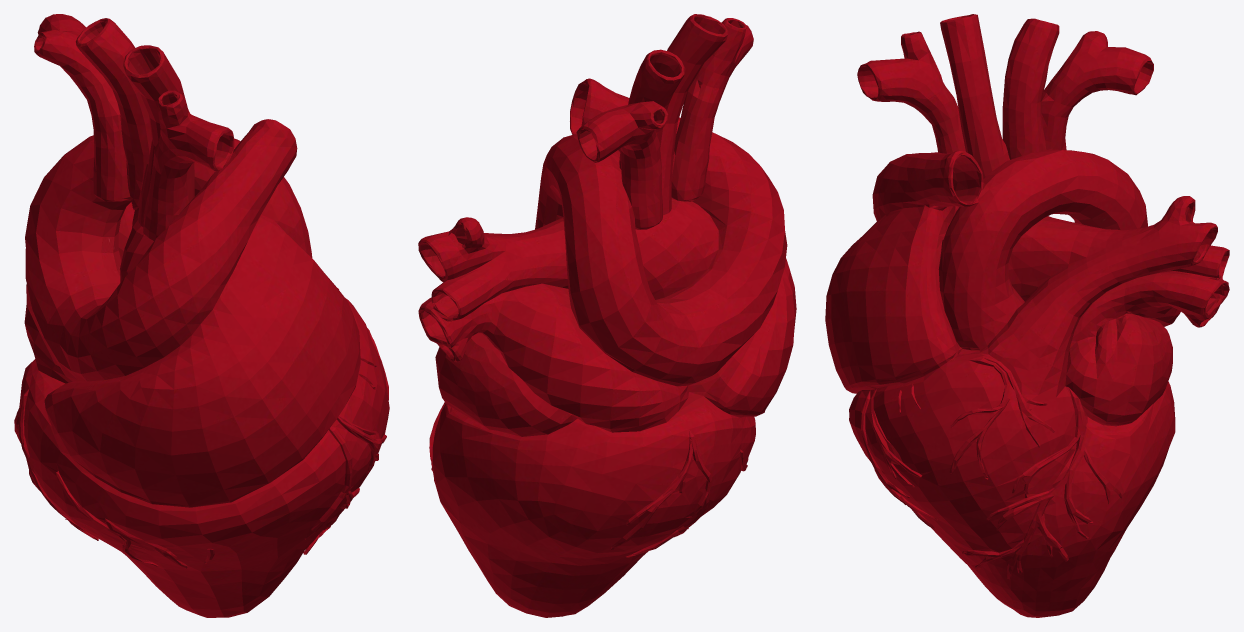
Rendered from Modelo+corazon.glb.
3 views of the same model, side by side, from view 1: azimuth 30°, elevation 25°; view 2: azimuth 150°, elevation 25°; view 3: azimuth 270°, elevation 25° (orthographic). The views are drawn at different scales.
Visible parts, largest first — view 1: tripo_node_e30db3d7-55a1-4009-9199-86bd85c5ce15; view 2: tripo_node_e30db3d7-55a1-4009-9199-86bd85c5ce15; view 3: tripo_node_e30db3d7-55a1-4009-9199-86bd85c5ce15.
Boxes of the visible parts, x1,y1,x2,y2 form: tripo_node_e30db3d7-55a1-4009-9199-86bd85c5ce15: [14, 14, 389, 617]; tripo_node_e30db3d7-55a1-4009-9199-86bd85c5ce15: [418, 14, 796, 617]; tripo_node_e30db3d7-55a1-4009-9199-86bd85c5ce15: [825, 14, 1229, 617].
Bounding box in the file's own units: 0.5342 × 1 × 0.6693.
1 material, 1 textured.
